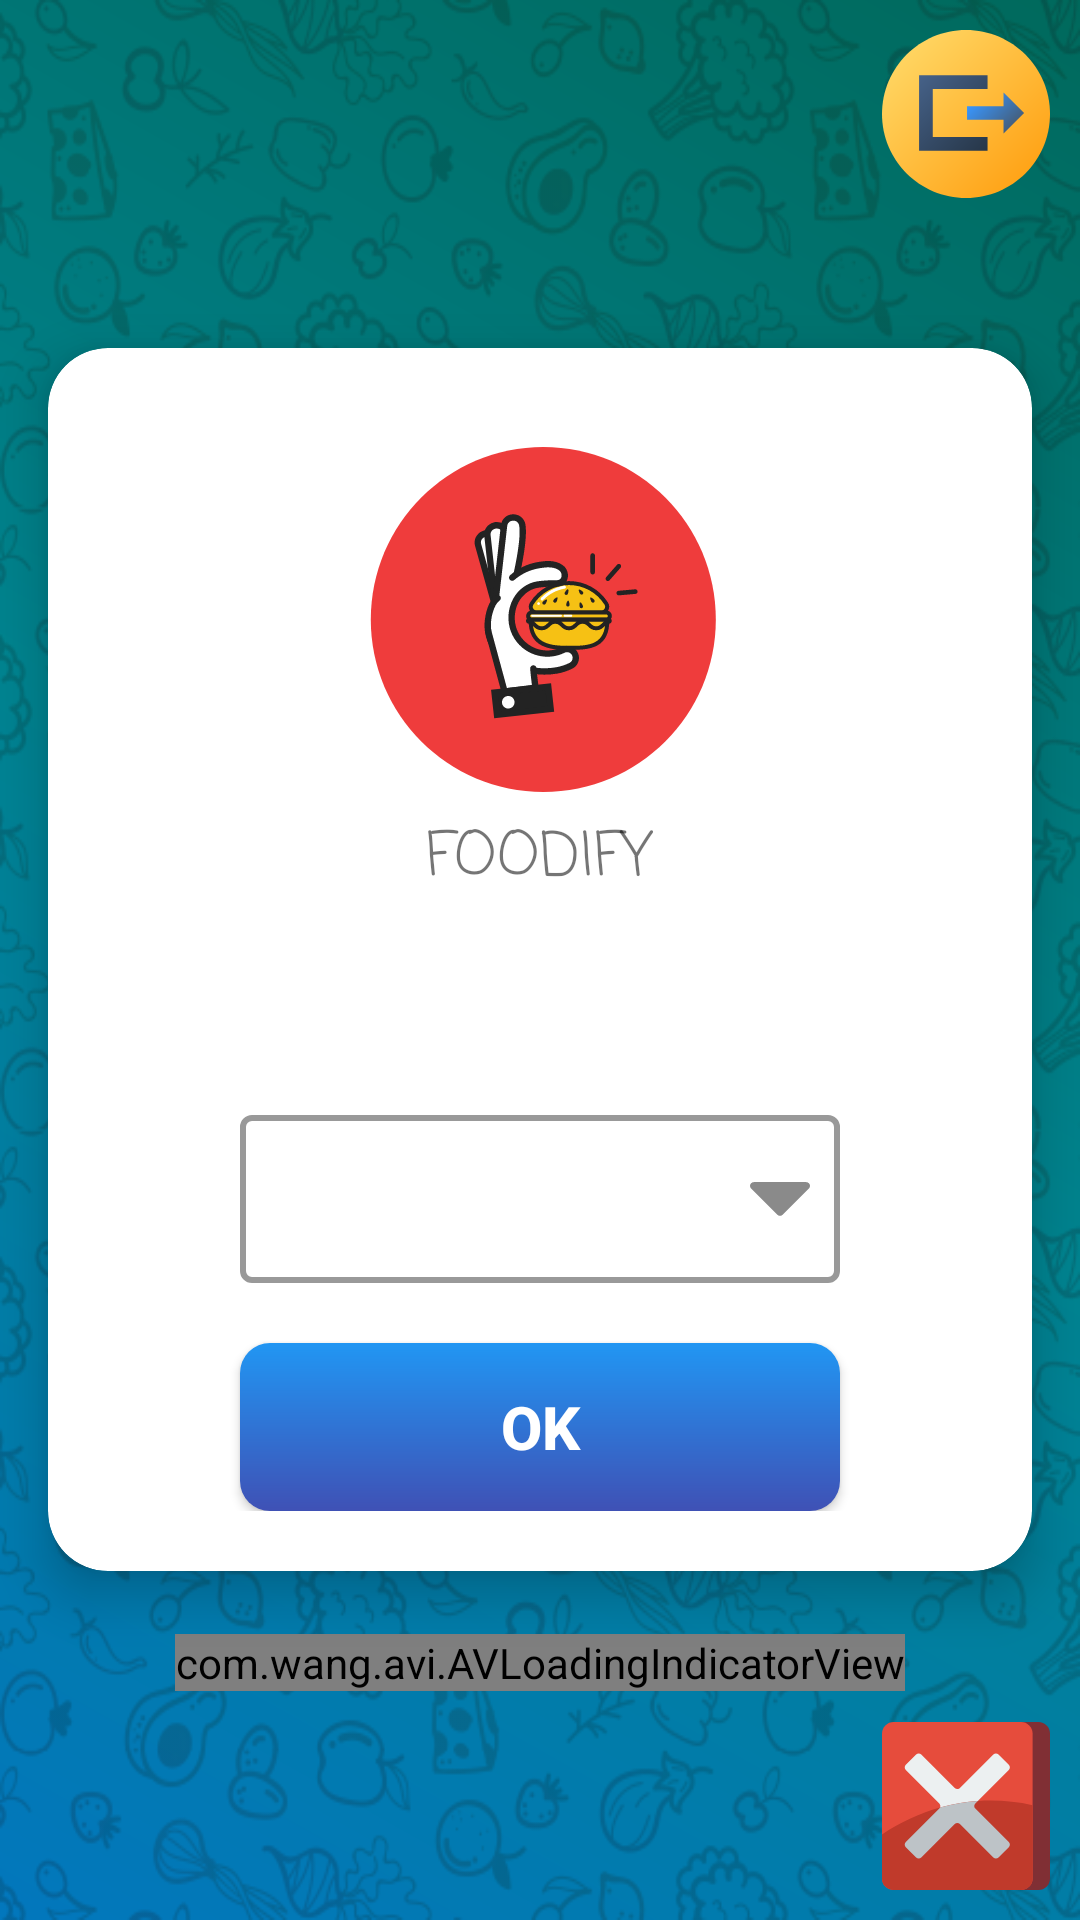

Where icons sit on this 1080 x 1920 app screen, as box=[x1, y1, x2, y2]:
clear: box=[882, 1722, 1050, 1890]
